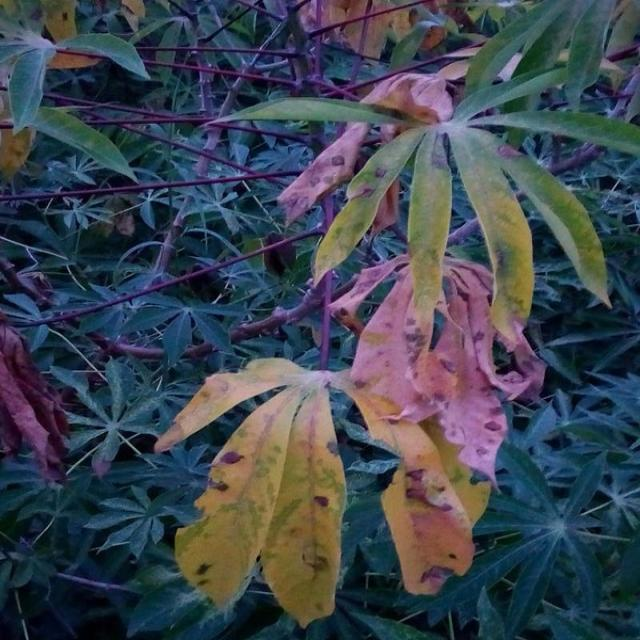cassava leaf: (154, 1, 638, 629)
